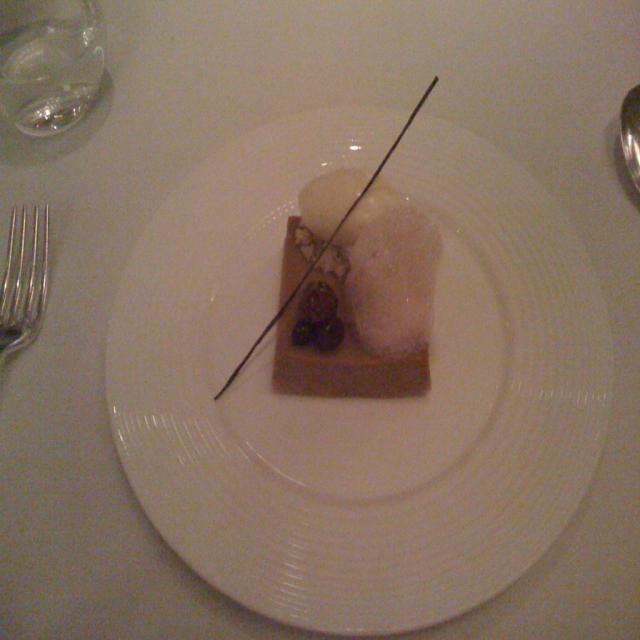ceramic plate: (103, 98, 618, 640)
